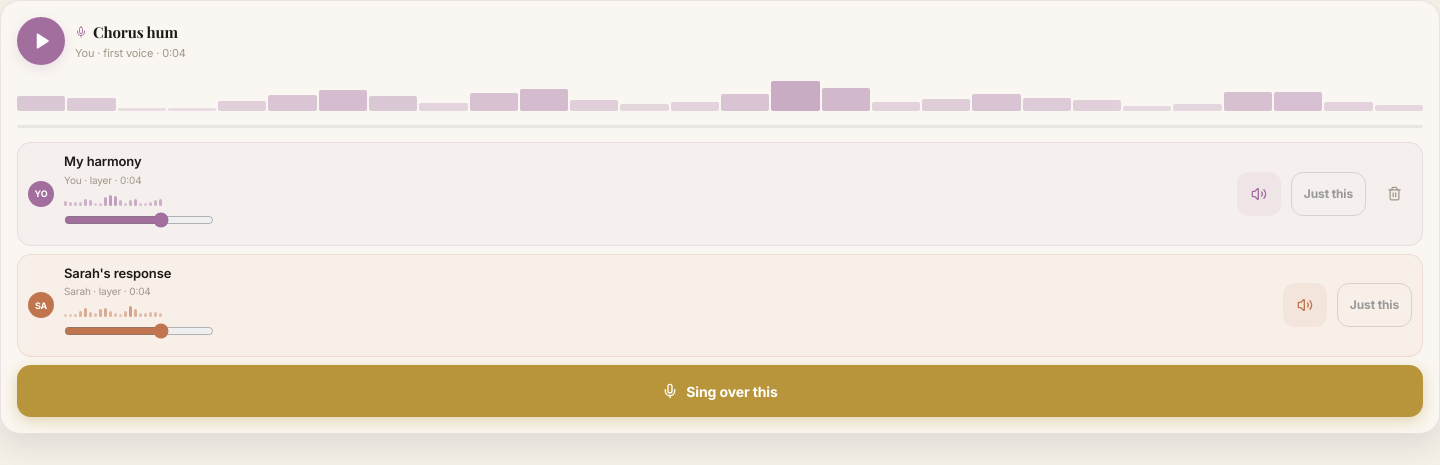
MemoStack — layer remove (own work, one calm confirm) › asks once inline; Keep walks it back without firing
Click the button named "remove your layer \"my harmony\"" at (1394, 194), box [1376, 172, 1412, 216]
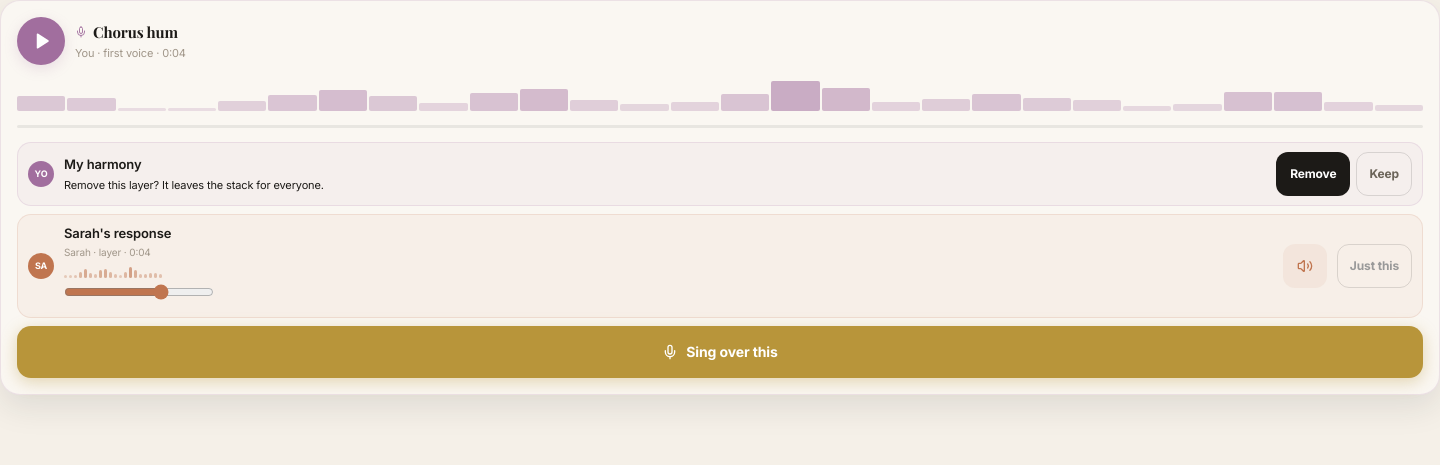
Now the text "Remove this layer? It leaves the stack for everyone." is shown, box [64, 178, 324, 192]
Click the button with aria-label "keep this layer" at (1384, 174), box [1356, 152, 1412, 196]
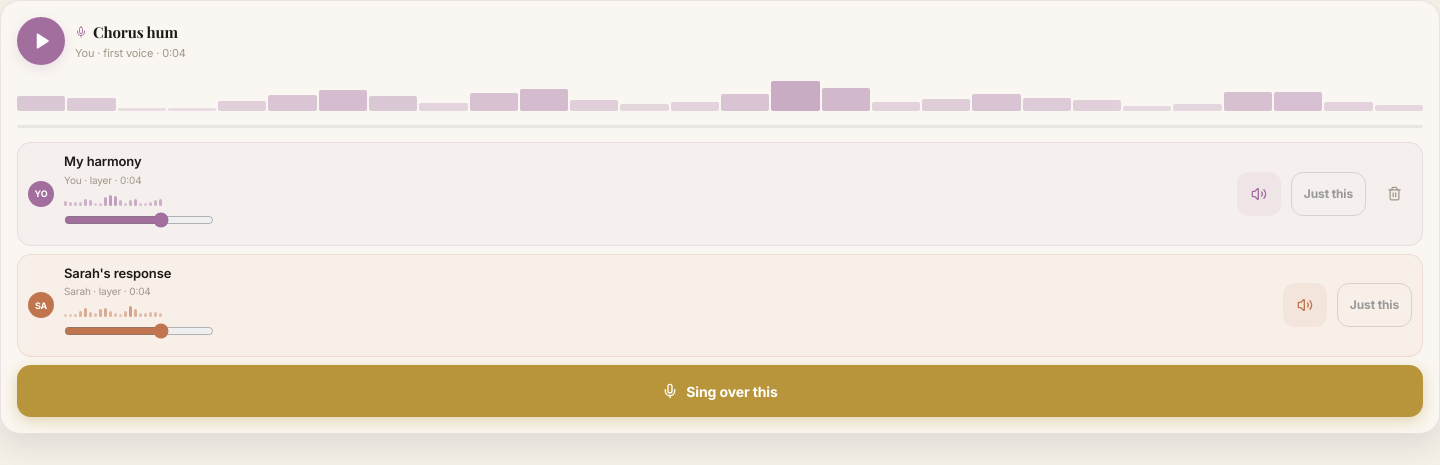
Now the text "Remove this layer?" is gone
Now the slider named "you's layer volume" is shown, box [64, 210, 214, 230]
